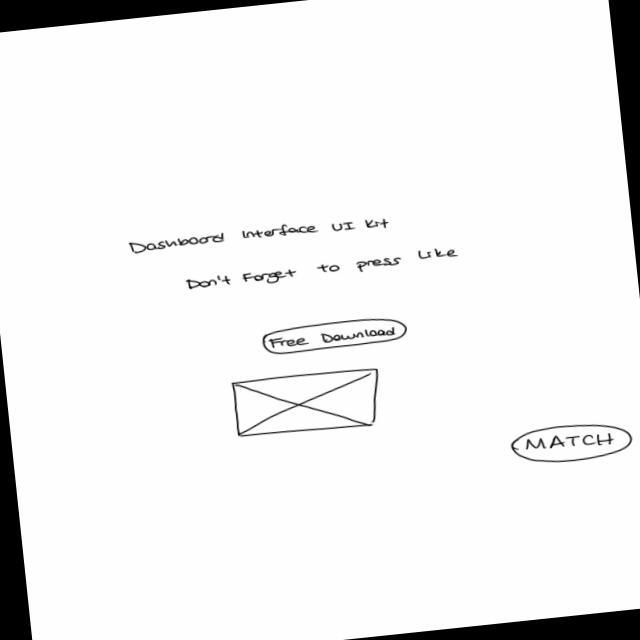button: (508, 418, 636, 470), (261, 314, 410, 358)
image: (230, 365, 385, 442)
label: (184, 243, 461, 294), (126, 212, 392, 257)
